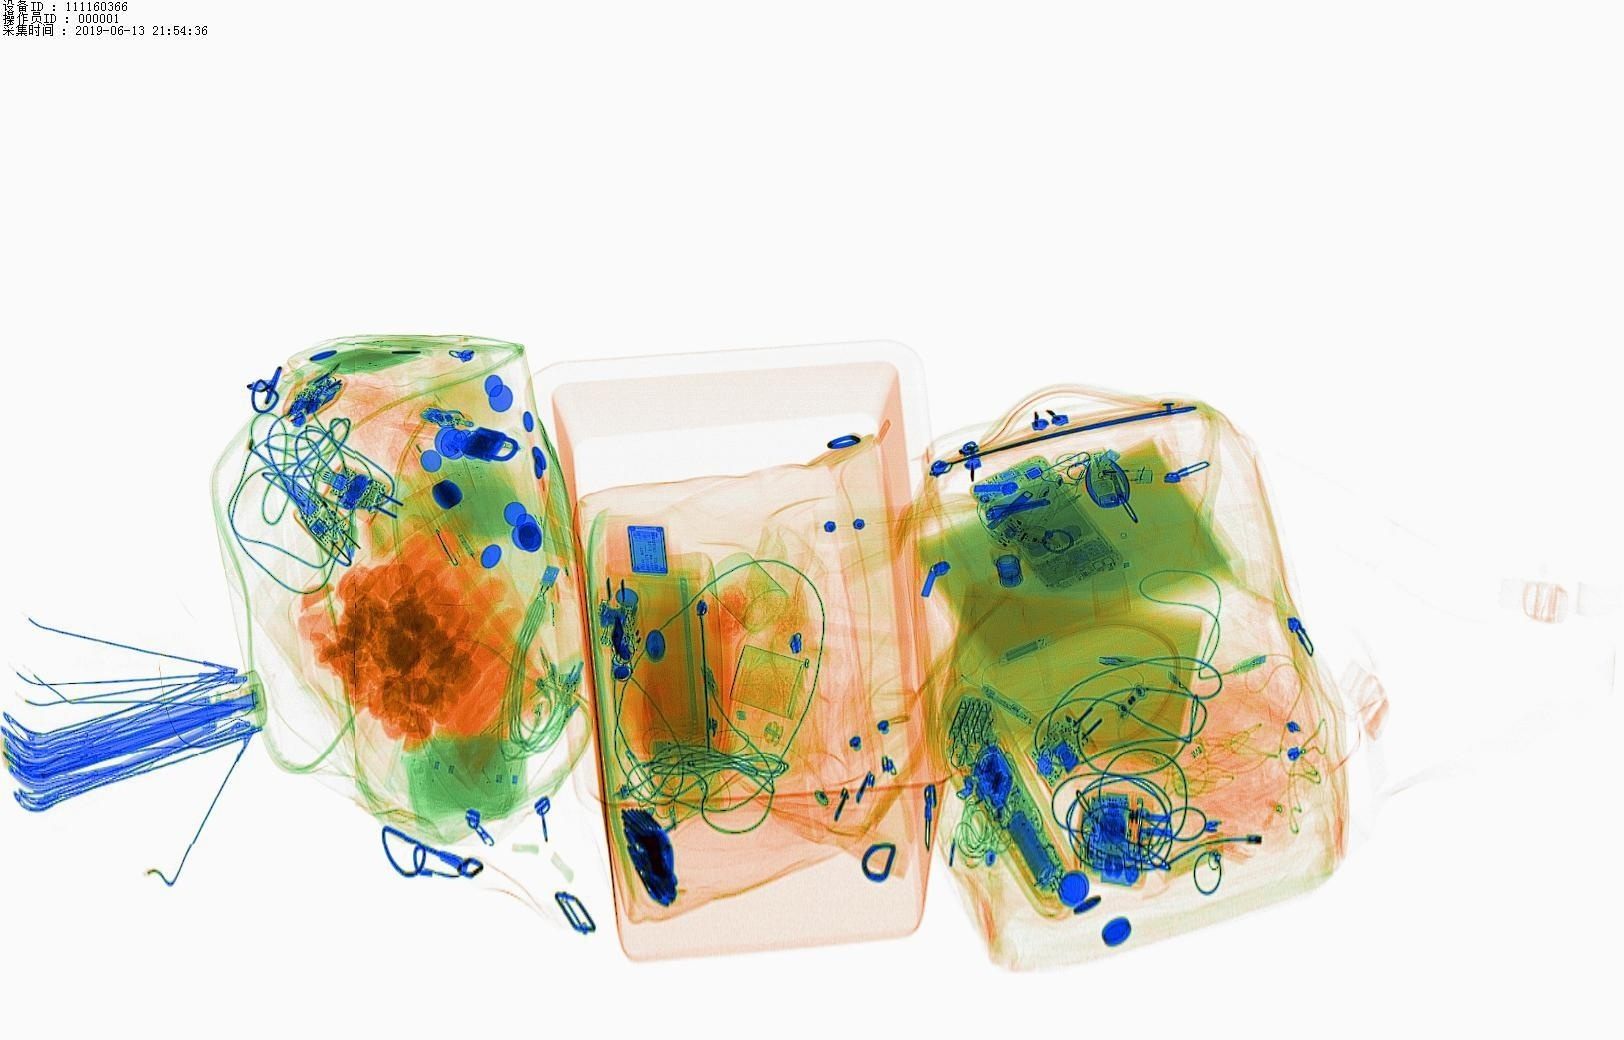NonmetallicFire: (1081, 460, 1172, 491)
